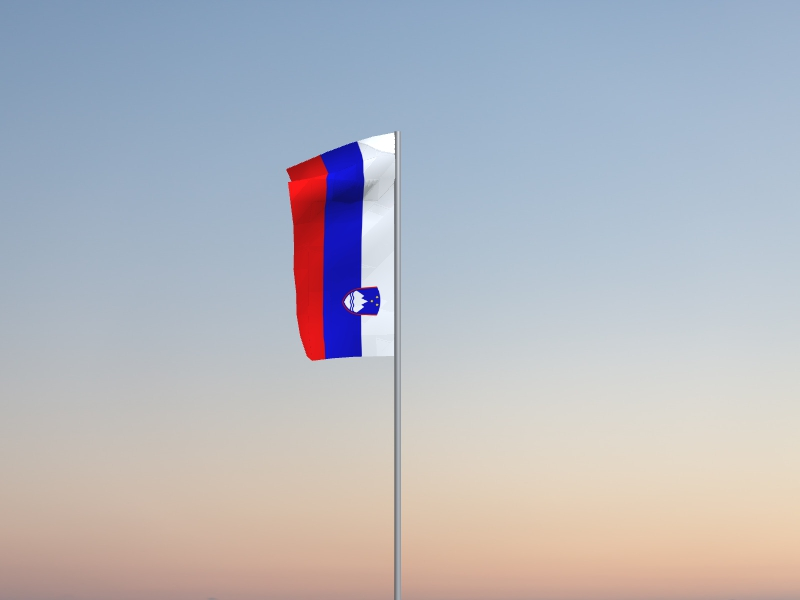si: (285, 133, 395, 362)
